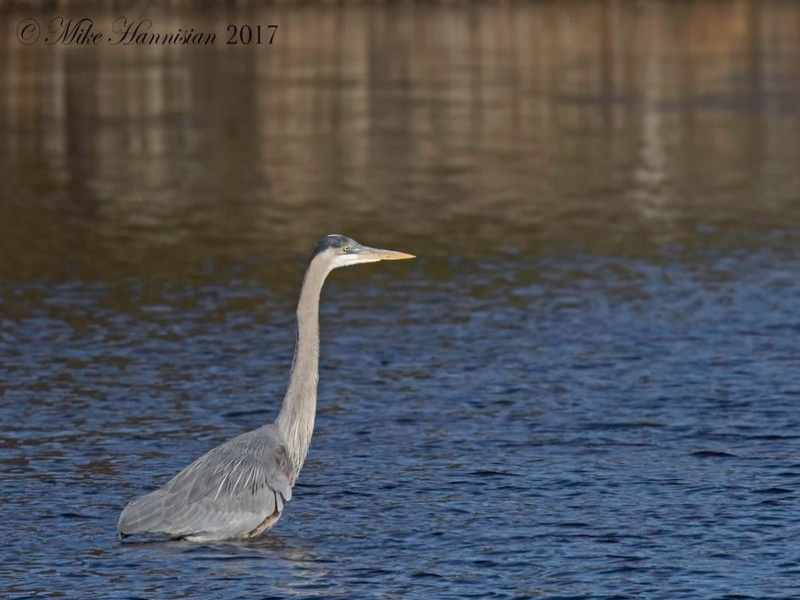heron: (116, 232, 419, 547)
